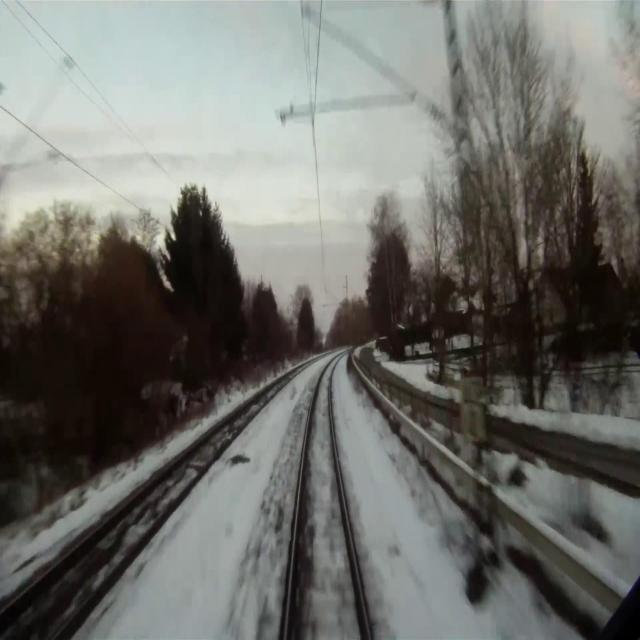rail-track: (0, 378, 284, 639), (288, 361, 367, 639)
